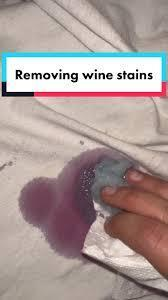oil: (26, 167, 84, 247), (46, 226, 77, 273), (59, 145, 99, 167)
